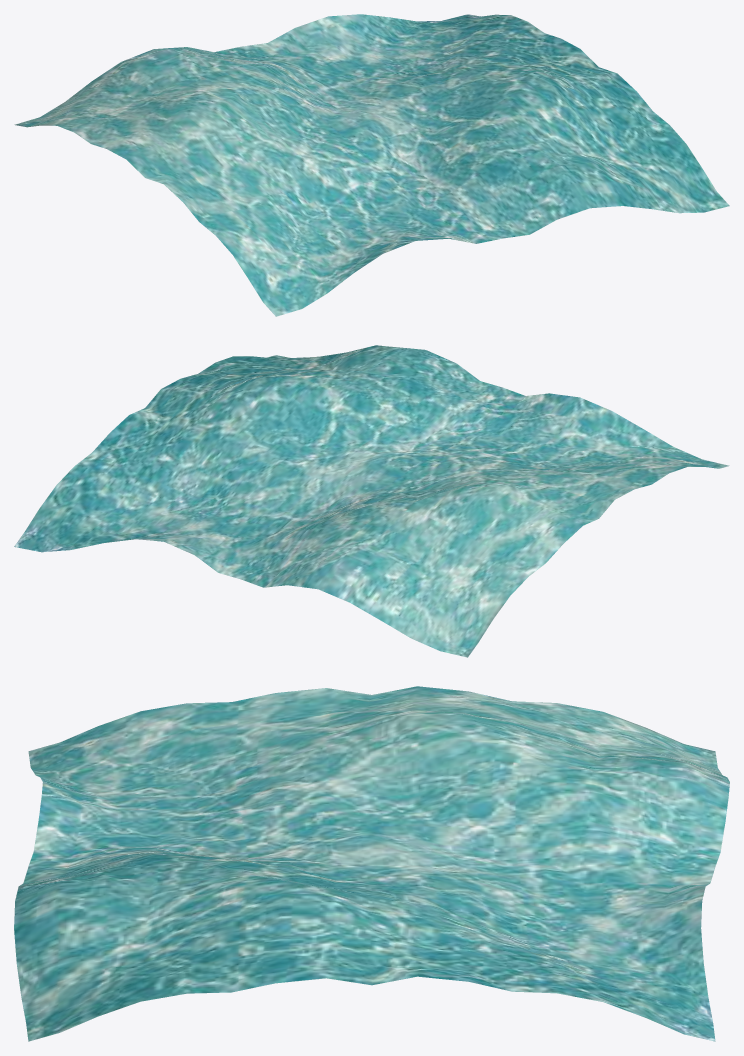
The model's file is water_000078.obj.
The picture shows the model from 3 angles, top to bottom: view 1: azimuth 30°, elevation 25°; view 2: azimuth 150°, elevation 25°; view 3: azimuth 270°, elevation 25°; orthographic projection. The views are drawn at different scales.
Visible parts, largest first — view 1: Plan.003_Plan.001; view 2: Plan.003_Plan.001; view 3: Plan.003_Plan.001.
Boxes of the visible parts, x1=… form: Plan.003_Plan.001: x1=14, y1=14, x2=729, y2=316; Plan.003_Plan.001: x1=14, y1=345, x2=729, y2=657; Plan.003_Plan.001: x1=14, y1=686, x2=729, y2=1041.
Bounding box in the file's own units: 60699 × 8535 × 62871.
Materials: 1 (1 with a texture image).
